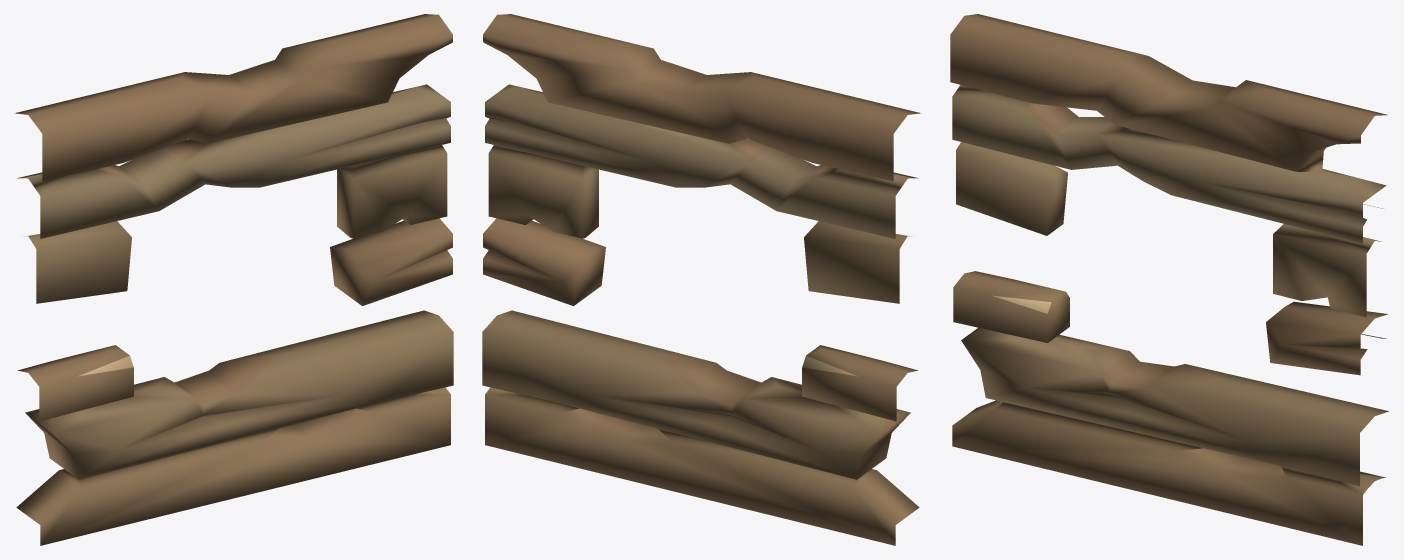
Rendered from rpgpp_av_wall_01_3x3_window_01a.gltf.
3 renders of one model, left to right at view 1: azimuth 30°, elevation 25°; view 2: azimuth 150°, elevation 25°; view 3: azimuth 330°, elevation 25°, orthographic.
Parts seen in each view (by area): view 1: rpgpp_av_wall_01_3x3_window_01a; view 2: rpgpp_av_wall_01_3x3_window_01a; view 3: rpgpp_av_wall_01_3x3_window_01a.
Part boxes in pixels (box(x1,y1,x2,y2)): rpgpp_av_wall_01_3x3_window_01a: box(15, 14, 453, 545); rpgpp_av_wall_01_3x3_window_01a: box(482, 14, 920, 545); rpgpp_av_wall_01_3x3_window_01a: box(950, 14, 1388, 545).
Size of the model in its own units: 0.03 by 0.03 by 0.00374.
1 material, 1 textured.
